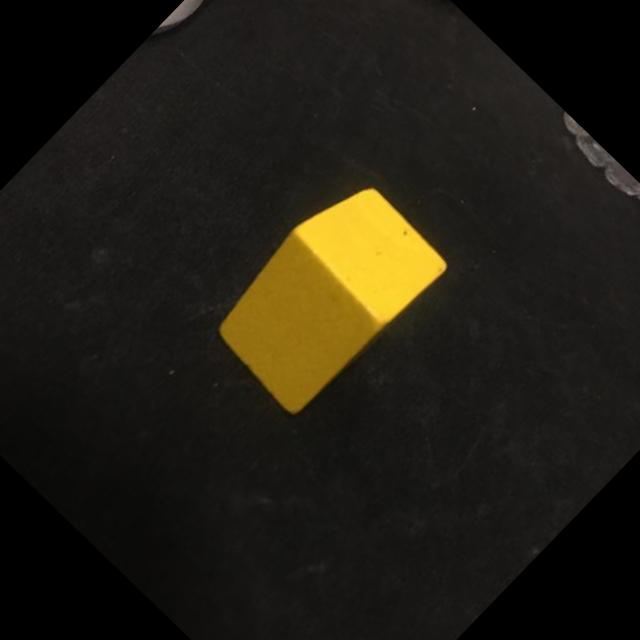yellow: (219, 188, 448, 415)
